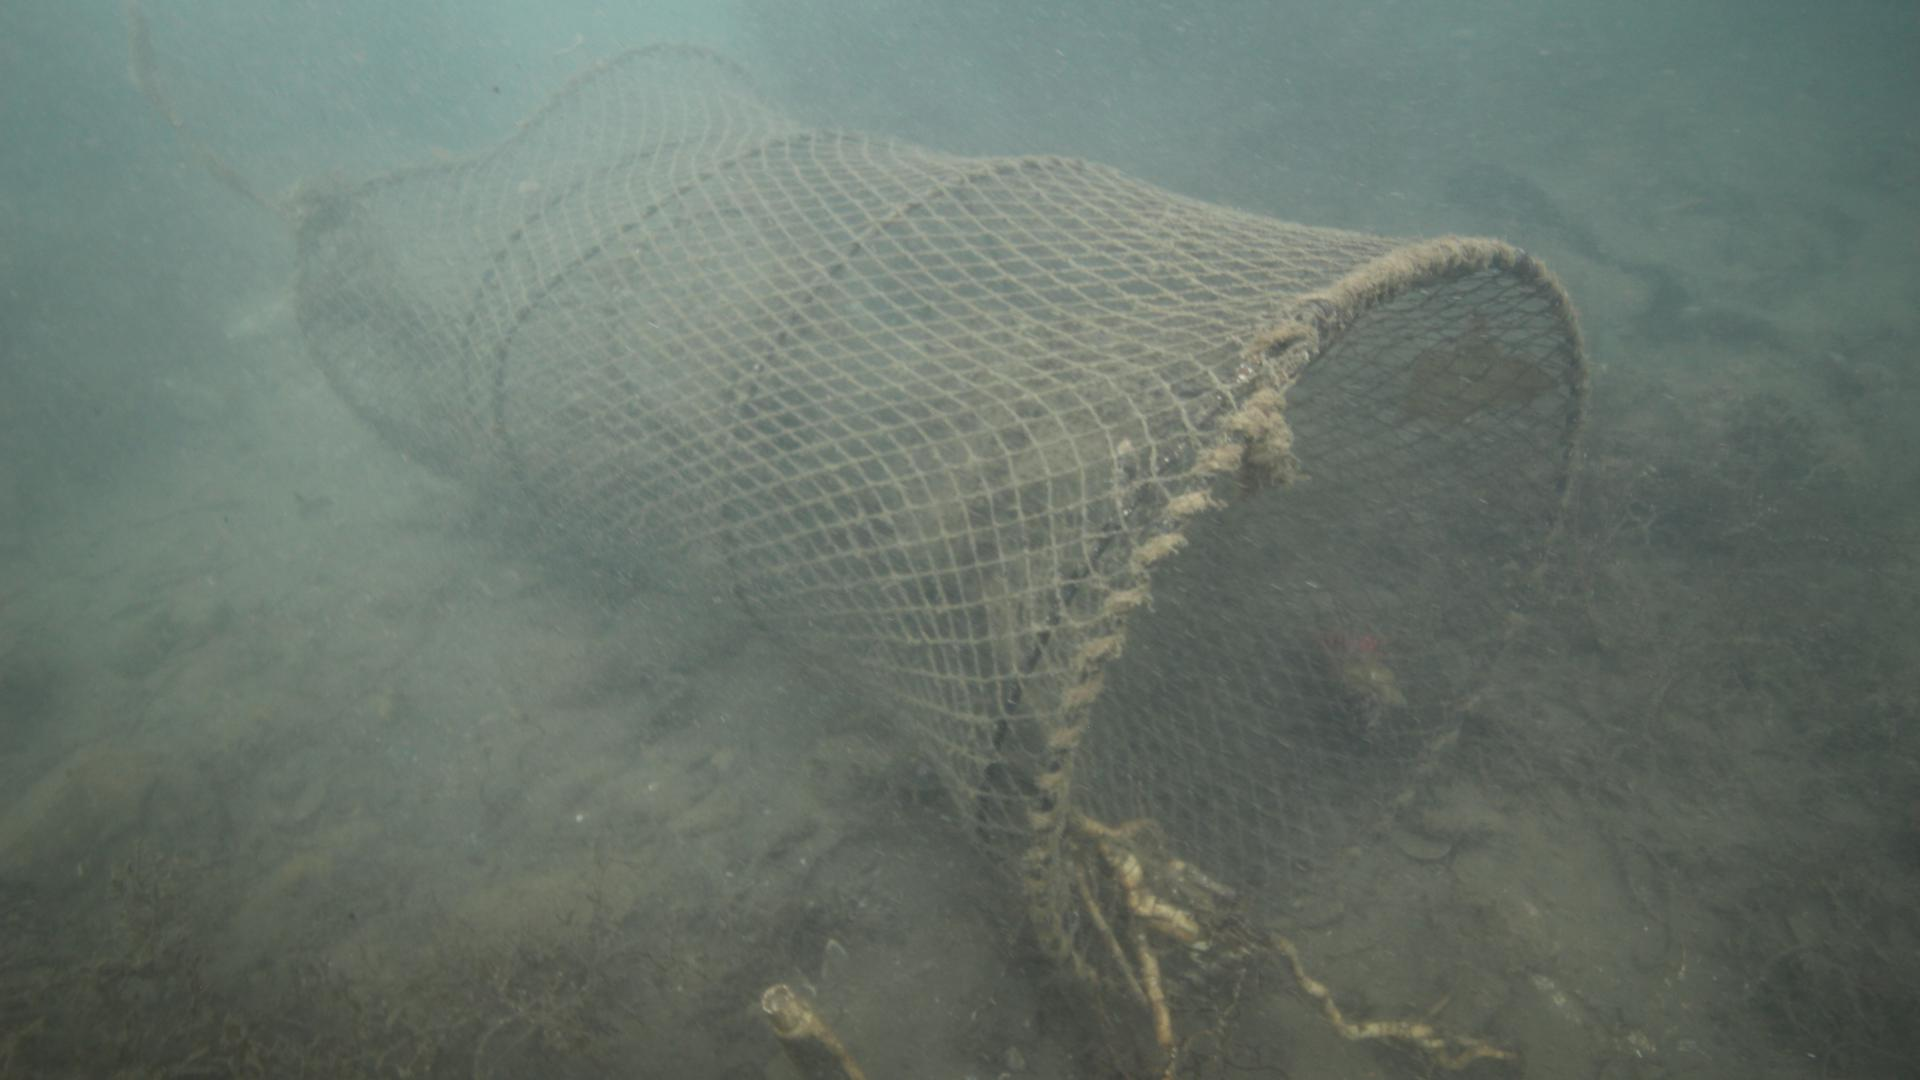spring fish trap: (287, 37, 1592, 1004)
